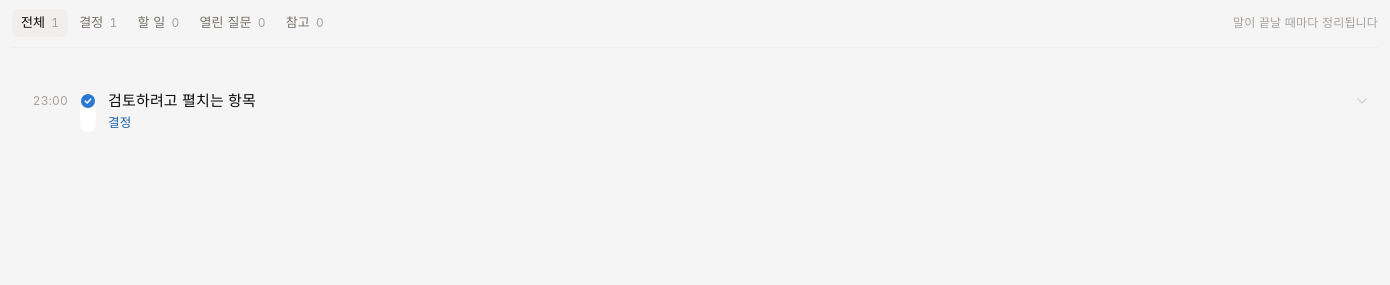
Scenario: 실시간 항목의 근거를 펼칠 때 높이가 늘어도 자동 추종으로 위치를 빼앗지 않는다
(page scrolled)
Click the button "검토하려고 펼치는 항목 결정" at (182, 100), box [100,89,1378,132]
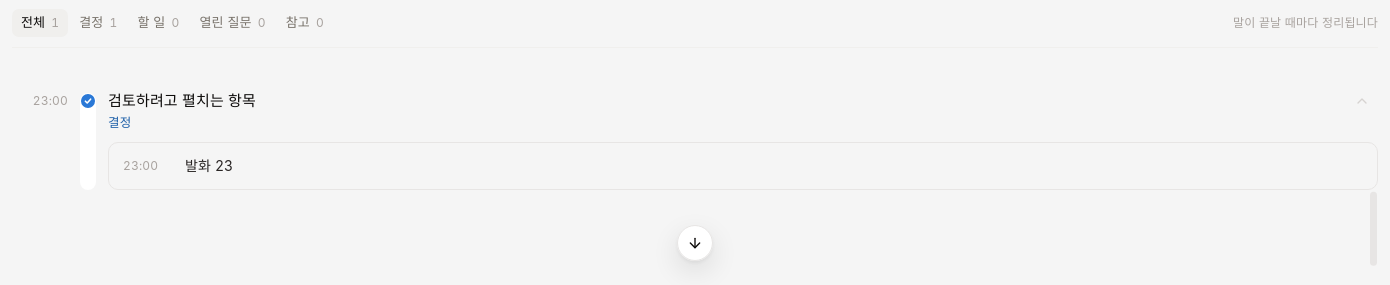
Expected: the button named "맨 아래로" is shown, [677,225,713,261]
